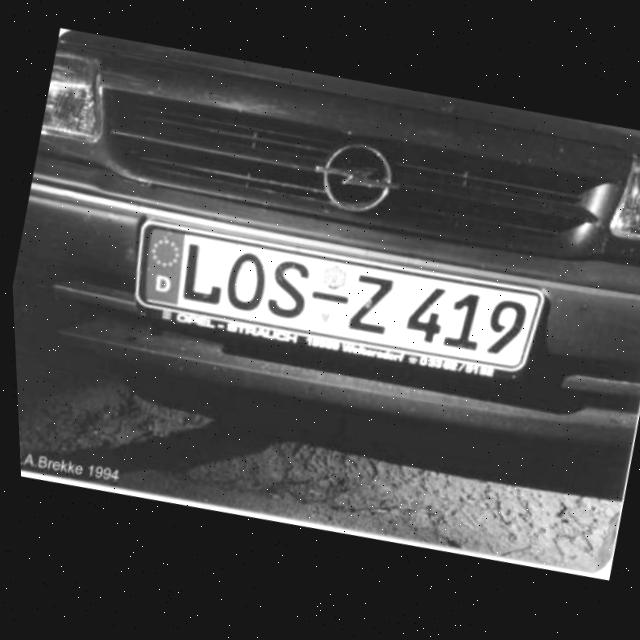license-plates: (138, 226, 540, 371)
